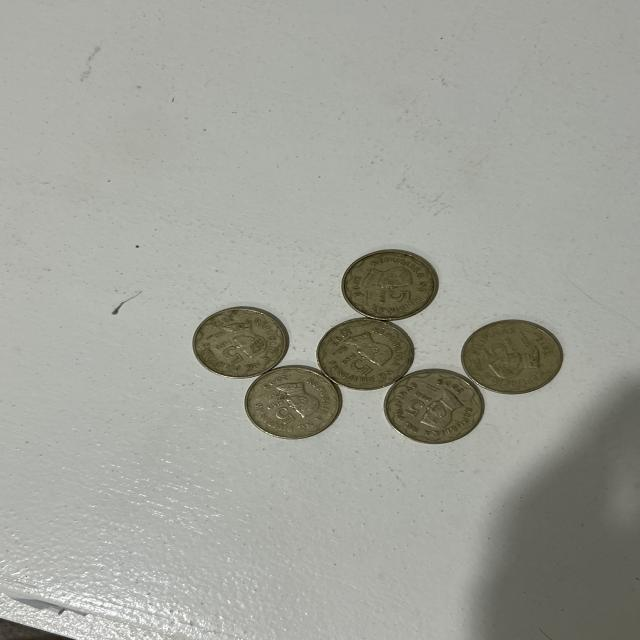5_Old_Front: (329, 351, 374, 384), (371, 284, 418, 310), (206, 339, 250, 366), (394, 388, 432, 419), (258, 398, 297, 428), (481, 336, 519, 360)
